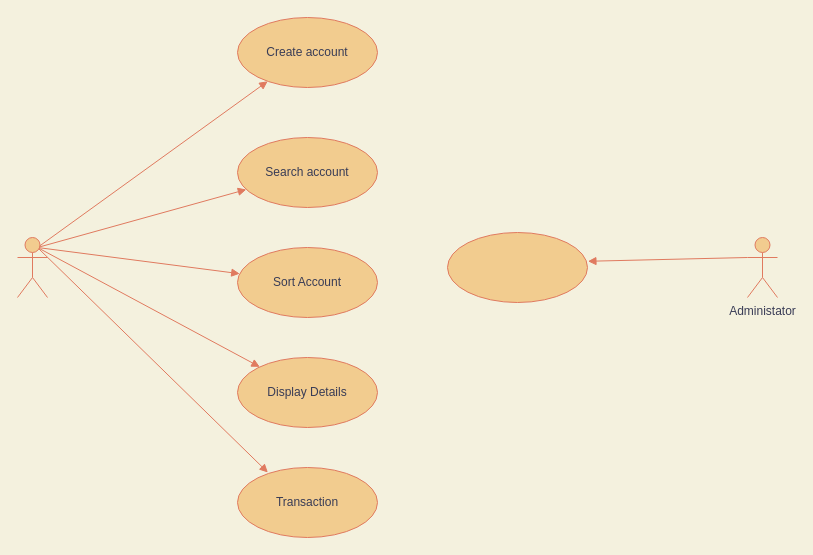
Image size: 813x555. Some labels were removed from this diagram. Each missing label, with the box of its shape:
Delete Account: (446, 232, 588, 302)
User: (16, 236, 48, 298)
